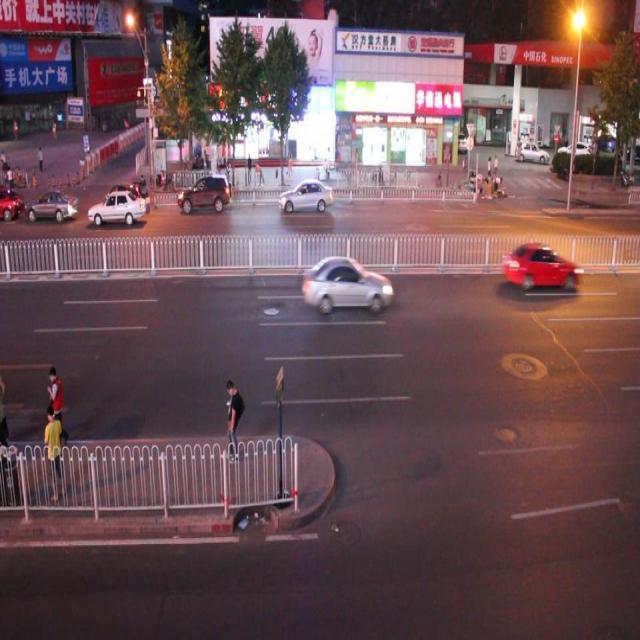car: (299, 253, 394, 327), (505, 237, 582, 300), (278, 176, 336, 219), (88, 187, 148, 228), (179, 176, 232, 216), (28, 186, 78, 224), (517, 138, 550, 167)
